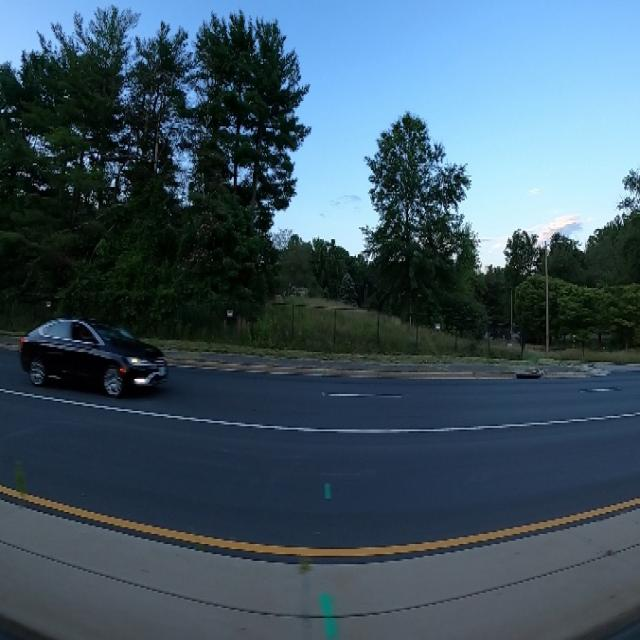cars: (18, 309, 172, 402)
